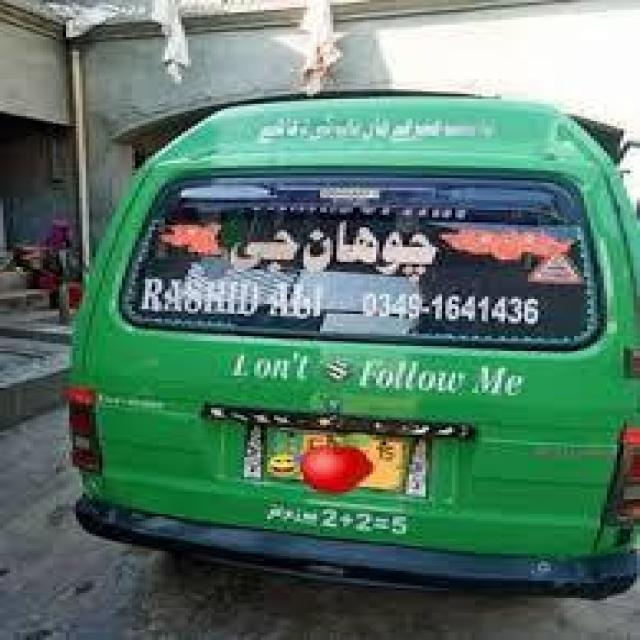Van: (66, 94, 640, 608)
